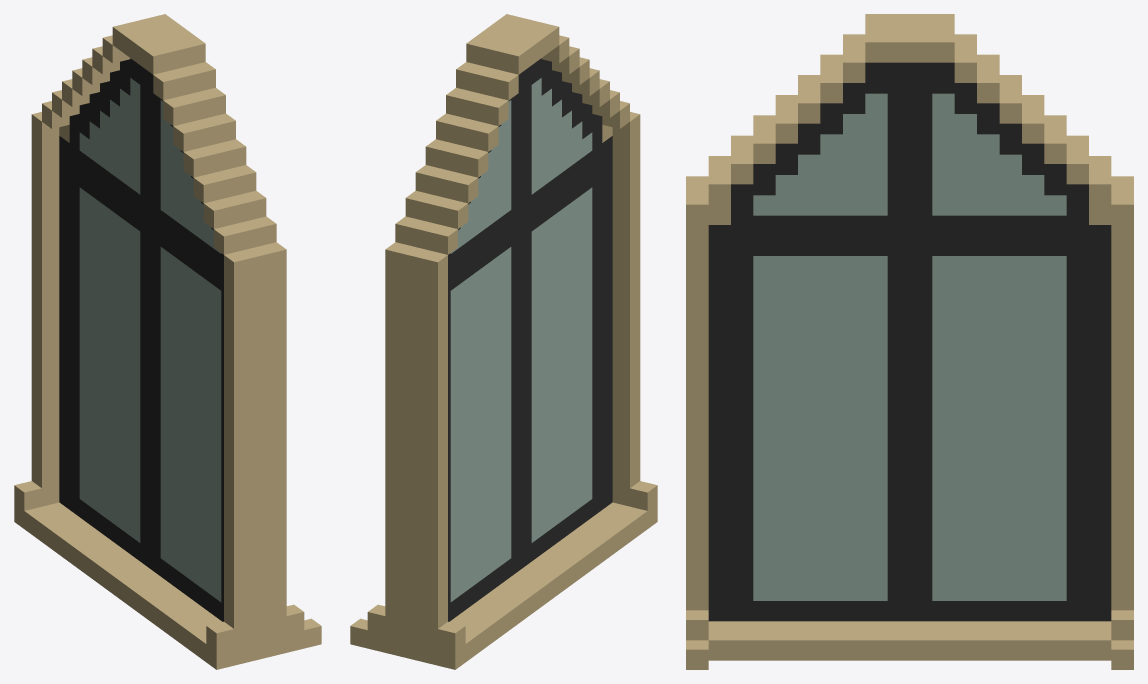
Rendered from medieval_window_interior.obj.
The picture shows the model from 3 angles, left to right: view 1: azimuth 30°, elevation 25°; view 2: azimuth 150°, elevation 25°; view 3: azimuth 270°, elevation 25°; orthographic projection. The views are drawn at different scales.
Bounding box in the file's own units: 0.6 × 3 × 2.
Materials: 1 (1 with a texture image).
